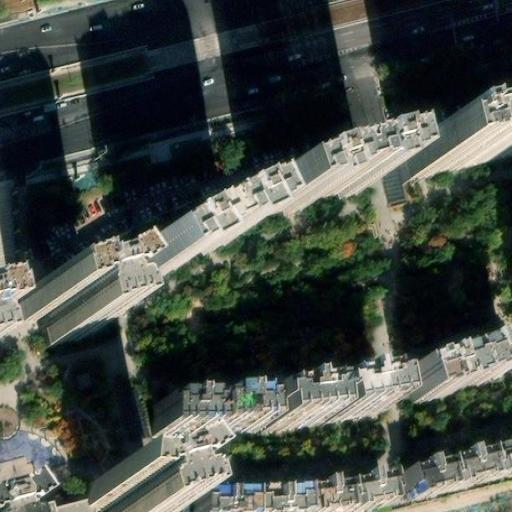building: (399, 117, 512, 183), (403, 341, 509, 404), (261, 380, 387, 433), (402, 437, 512, 497), (249, 160, 366, 216), (133, 227, 249, 283), (15, 278, 86, 344), (150, 399, 256, 437), (87, 466, 158, 512), (298, 477, 384, 512), (189, 489, 299, 512), (21, 494, 97, 512)
